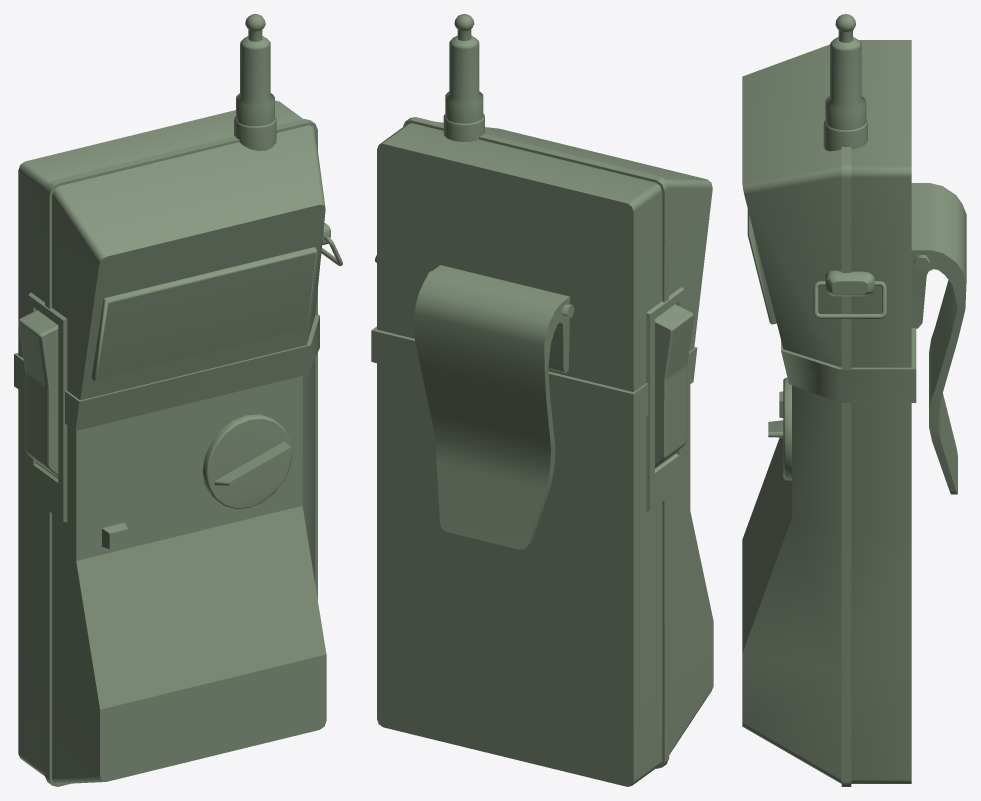
File: WALKIE-TALKIE_low_triangulate.fbx
3 renders of one model, left to right at view 1: azimuth 30°, elevation 25°; view 2: azimuth 150°, elevation 25°; view 3: azimuth 270°, elevation 25°, orthographic. The views are drawn at different scales.
Visible parts, largest first — view 1: walkie_talke_13_low, walkie_talke_06_low, walkie_talke_15_low, walkie_talke_03_low, walkie_talke_14_low, walkie_talke_02_low, walkie_talke_01_low, walkie_talke_07_low, walkie_talke_04_low, walkie_talke_08_low, walkie_talke_05_low; view 2: walkie_talke_13_low, walkie_talke_09_low, walkie_talke_15_low, walkie_talke_02_low, walkie_talke_14_low, walkie_talke_01_low, walkie_talke_07_low, walkie_talke_08_low; view 3: walkie_talke_13_low, walkie_talke_09_low, walkie_talke_14_low, walkie_talke_15_low, walkie_talke_07_low, walkie_talke_11_low, walkie_talke_08_low, walkie_talke_03_low, walkie_talke_06_low, walkie_talke_12_low.
Part boxes in pixels (bbox=[...]): walkie_talke_13_low: bbox=[18, 100, 326, 784]; walkie_talke_06_low: bbox=[91, 247, 316, 380]; walkie_talke_15_low: bbox=[14, 314, 319, 430]; walkie_talke_03_low: bbox=[202, 414, 292, 509]; walkie_talke_14_low: bbox=[45, 119, 317, 786]; walkie_talke_02_low: bbox=[18, 310, 58, 477]; walkie_talke_01_low: bbox=[28, 292, 67, 522]; walkie_talke_07_low: bbox=[236, 14, 274, 126]; walkie_talke_04_low: bbox=[214, 442, 293, 485]; walkie_talke_08_low: bbox=[234, 116, 276, 150]; walkie_talke_05_low: bbox=[102, 523, 128, 549]; walkie_talke_13_low: bbox=[377, 122, 713, 786]; walkie_talke_09_low: bbox=[414, 265, 570, 549]; walkie_talke_15_low: bbox=[371, 326, 697, 425]; walkie_talke_02_low: bbox=[655, 304, 693, 467]; walkie_talke_14_low: bbox=[403, 117, 669, 768]; walkie_talke_01_low: bbox=[646, 287, 684, 511]; walkie_talke_07_low: bbox=[445, 14, 483, 123]; walkie_talke_08_low: bbox=[443, 114, 484, 141]; walkie_talke_13_low: bbox=[742, 40, 911, 783]; walkie_talke_09_low: bbox=[911, 183, 966, 494]; walkie_talke_14_low: bbox=[841, 146, 851, 786]; walkie_talke_15_low: bbox=[781, 328, 916, 402]; walkie_talke_07_low: bbox=[825, 14, 866, 130]; walkie_talke_11_low: bbox=[825, 270, 874, 296]; walkie_talke_08_low: bbox=[823, 120, 867, 151]; walkie_talke_03_low: bbox=[783, 377, 791, 480]; walkie_talke_06_low: bbox=[747, 209, 776, 324]; walkie_talke_12_low: bbox=[813, 281, 886, 318].
Bounding box in the file's own units: 6.83 × 15.72 × 4.29.
